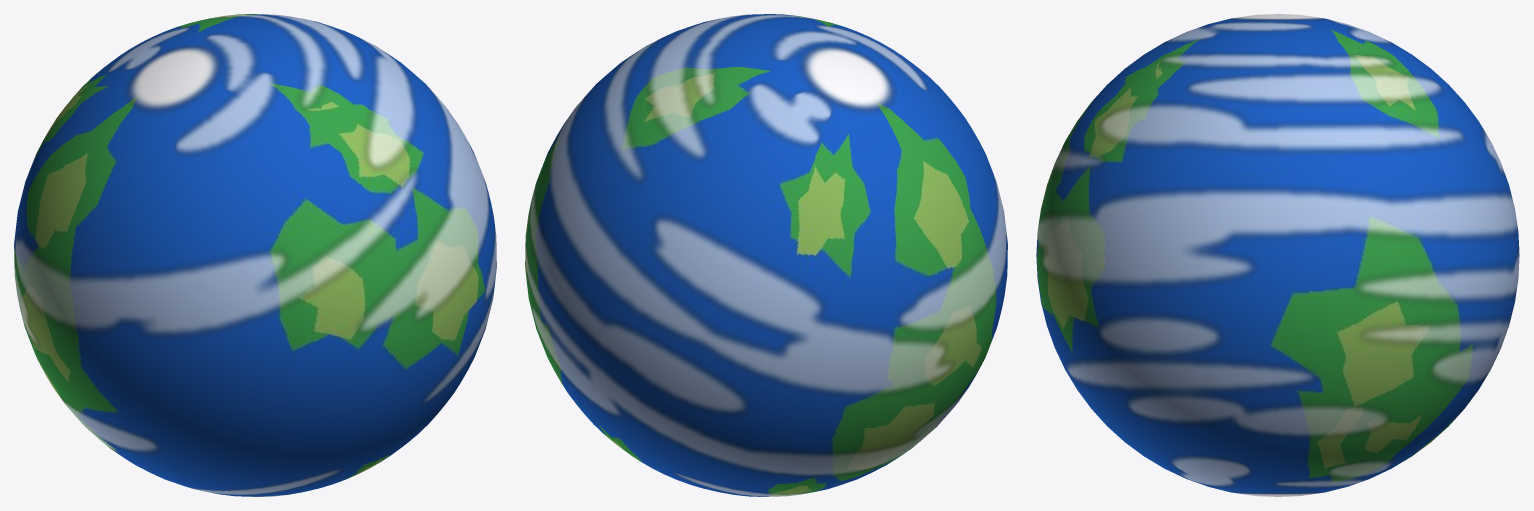
Rendered from bumi.glb.
3 views of the same model, side by side, from view 1: azimuth 30°, elevation 25°; view 2: azimuth 150°, elevation 25°; view 3: azimuth 270°, elevation 25° (orthographic).
Visible parts, largest first — view 1: Planet; view 2: Planet; view 3: Planet.
Boxes of the visible parts, <box> form: Planet: <box>14,14,496,496</box>; Planet: <box>525,14,1007,496</box>; Planet: <box>1036,14,1519,496</box>.
Size of the model in its own units: 0.9999 by 0.9999 by 1.
1 material, 1 textured.
